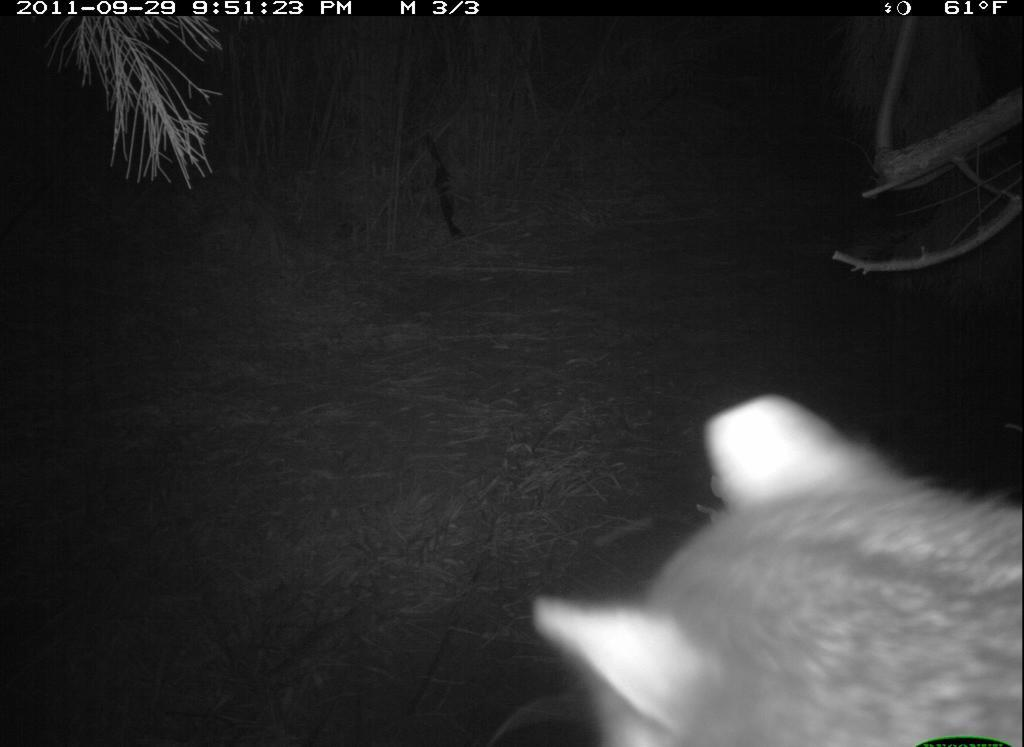raccoon: (530, 390, 1022, 747)
